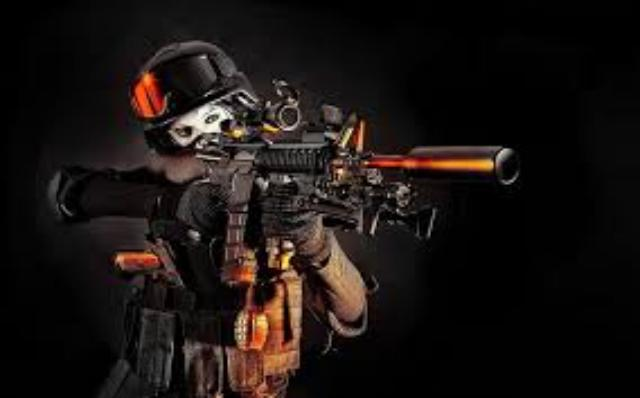other: (121, 44, 353, 396)
